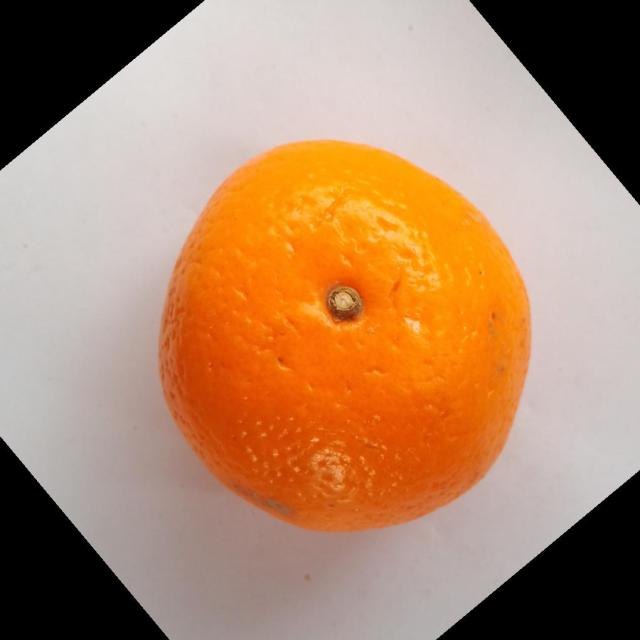fresh orange: (156, 137, 532, 533)
